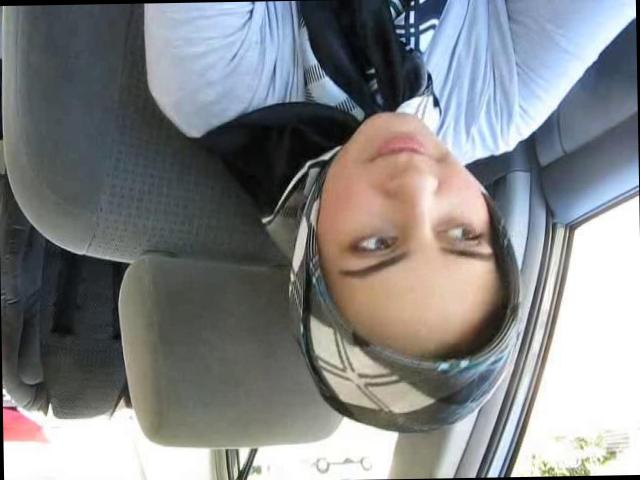eye_open: (342, 225, 402, 260), (438, 216, 488, 247)
face: (322, 106, 494, 298)
